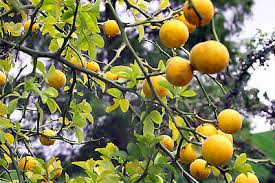orange: (191, 38, 229, 76), (201, 135, 233, 166), (162, 57, 194, 87), (157, 20, 190, 48), (142, 72, 169, 99), (217, 109, 245, 134), (48, 68, 67, 90), (39, 129, 57, 146)
